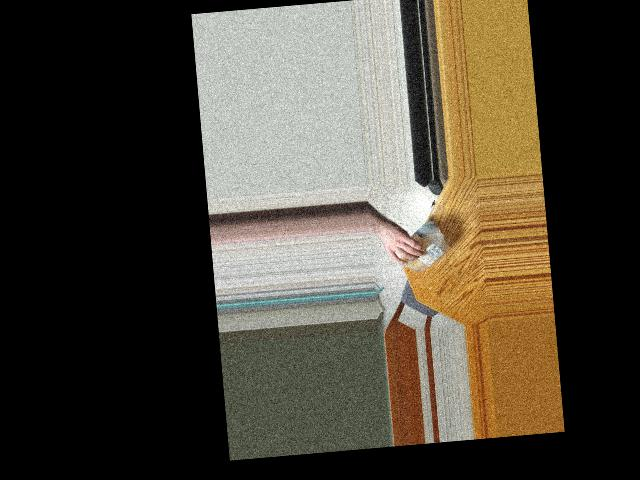cheese: (390, 226, 453, 277)
